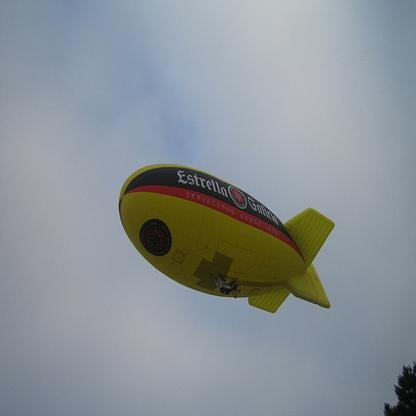Airship: (117, 163, 335, 315)
